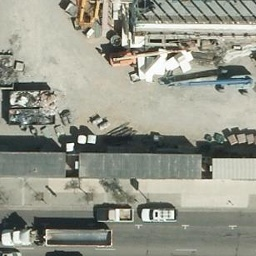car: (95, 203, 135, 223), (140, 205, 176, 223)
